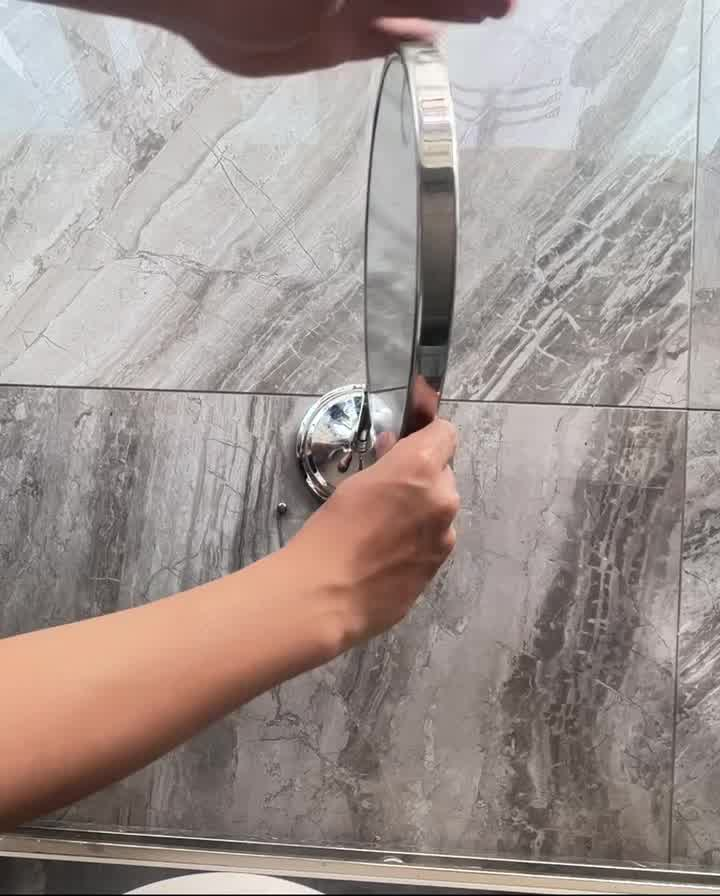base: (309, 380, 406, 502)
mirror: (366, 40, 476, 443)
screw: (270, 502, 297, 521)
